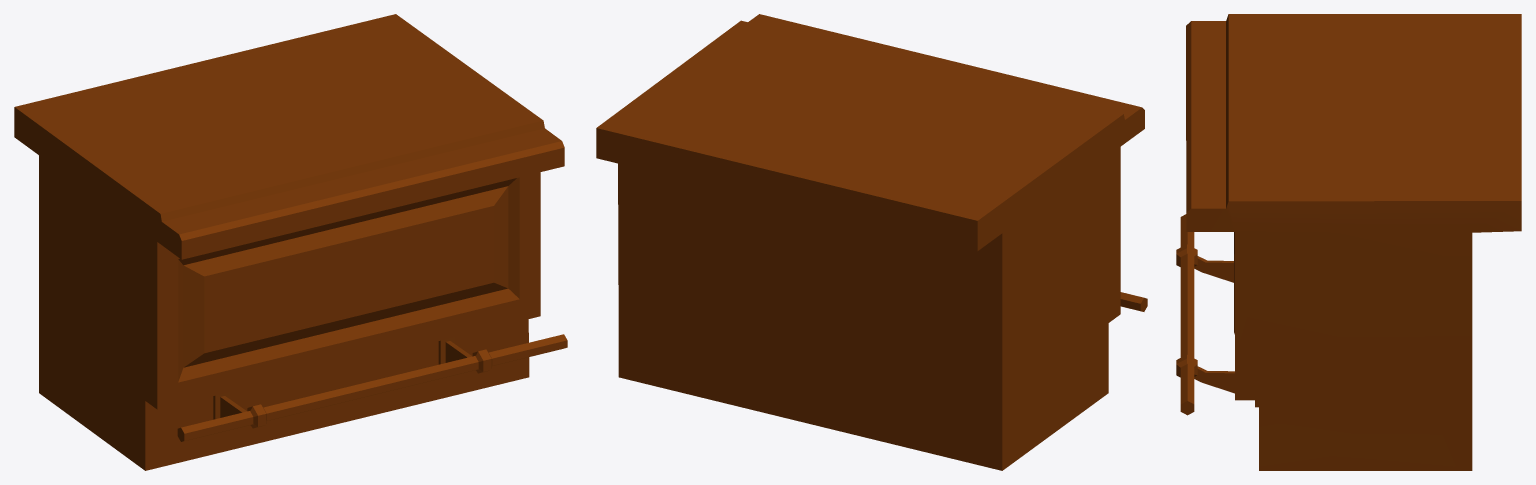
File: SM_Prop_Bar_Bench_02.obj
The picture shows the model from 3 angles, left to right: view 1: azimuth 30°, elevation 25°; view 2: azimuth 150°, elevation 25°; view 3: azimuth 270°, elevation 25°; orthographic projection.
Parts seen in each view (by area): view 1: SM_Prop_Bar_Bench_02_0; view 2: SM_Prop_Bar_Bench_02_0; view 3: SM_Prop_Bar_Bench_02_0.
Boxes of the visible parts, <box> form: SM_Prop_Bar_Bench_02_0: <box>14,14,567,470</box>; SM_Prop_Bar_Bench_02_0: <box>596,14,1147,470</box>; SM_Prop_Bar_Bench_02_0: <box>1176,14,1521,470</box>.
Size of the model in its own units: 1.46 by 0.9749 by 1.13.
